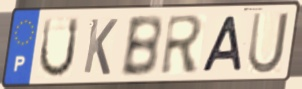A: (199, 14, 244, 74)
B: (118, 13, 164, 79)
K: (81, 16, 120, 77)
R: (159, 13, 206, 78)
U: (245, 10, 291, 76), (36, 15, 81, 80)
